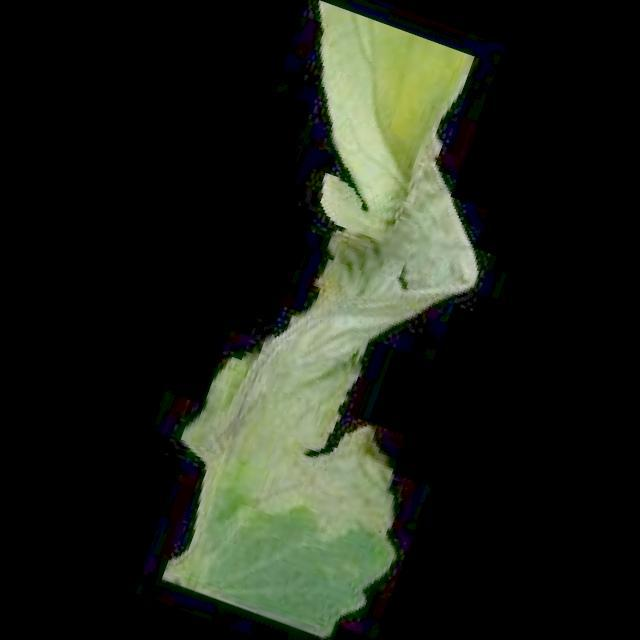Tomato late blight leaf: (106, 0, 566, 640)
